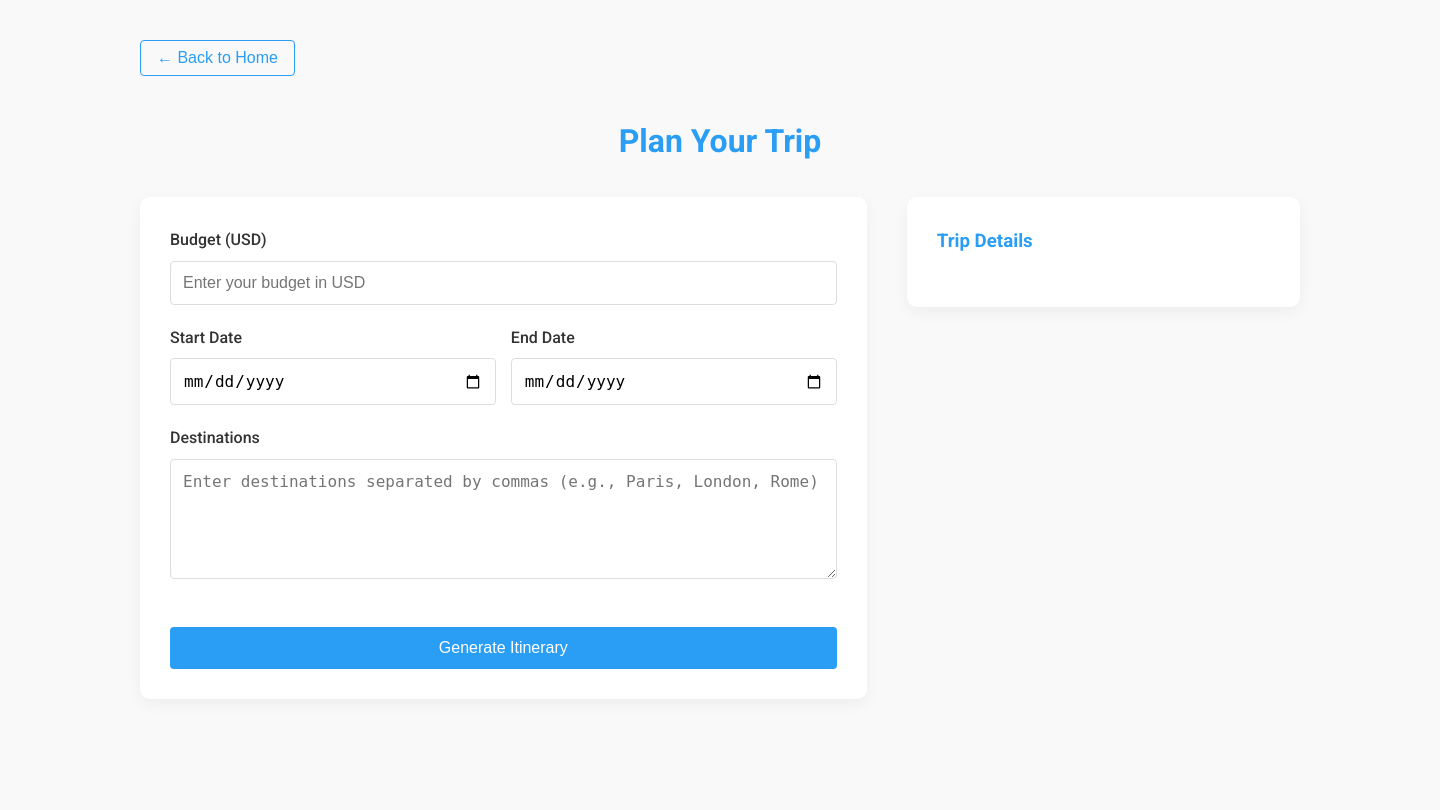
Test: PlannerPage Component › error handling works correctly
The image size is (1440, 810).
Note: Fill in the form
Type "5000" into the number field labelled "Budget (USD)" at [503, 283], box left=170, top=261, right=837, bottom=305
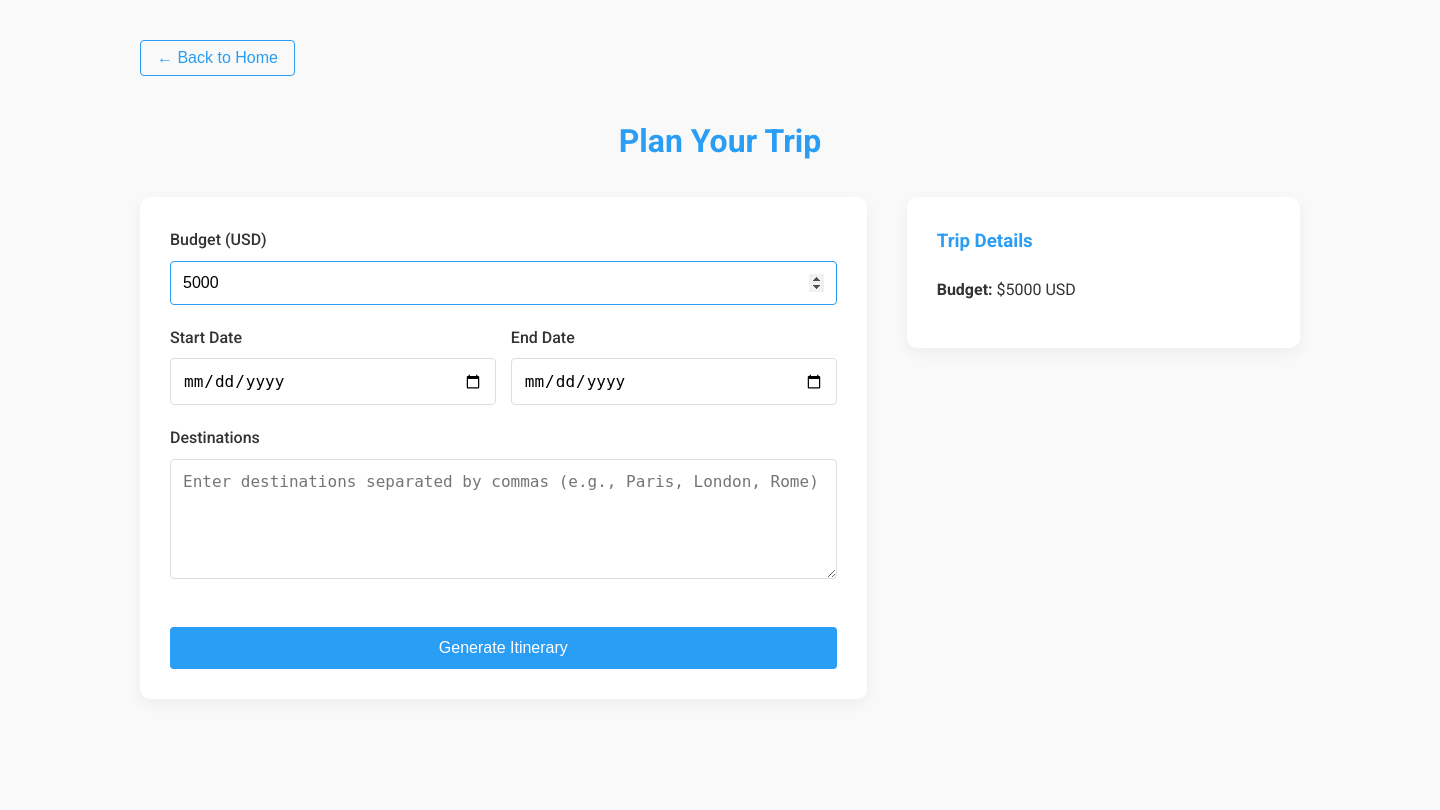
Type "2023-01-01" into the date field labelled "Start Date" at [333, 382], box left=170, top=358, right=496, bottom=405
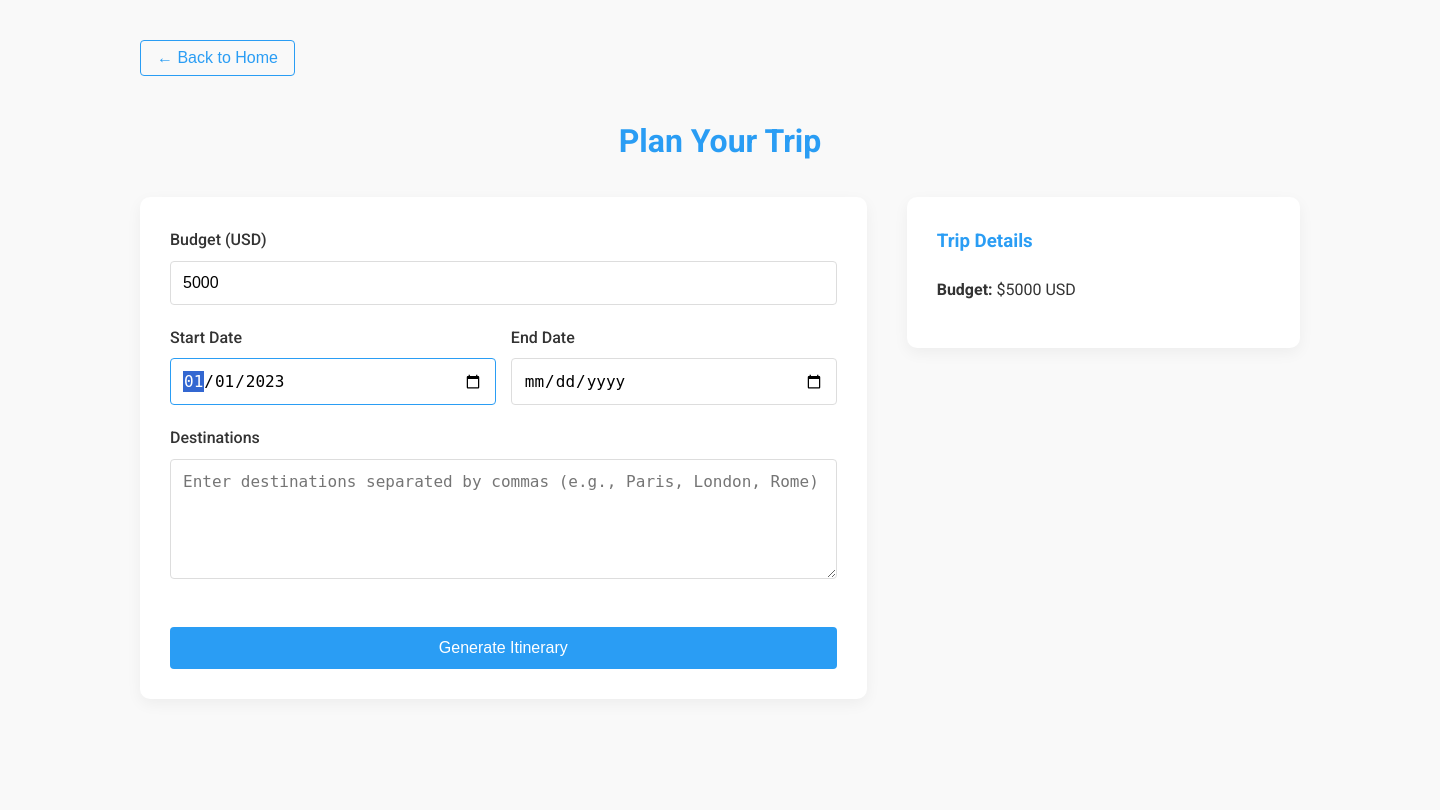
Type "2023-01-05" into the date field labelled "End Date" at [674, 382], box left=511, top=358, right=837, bottom=405
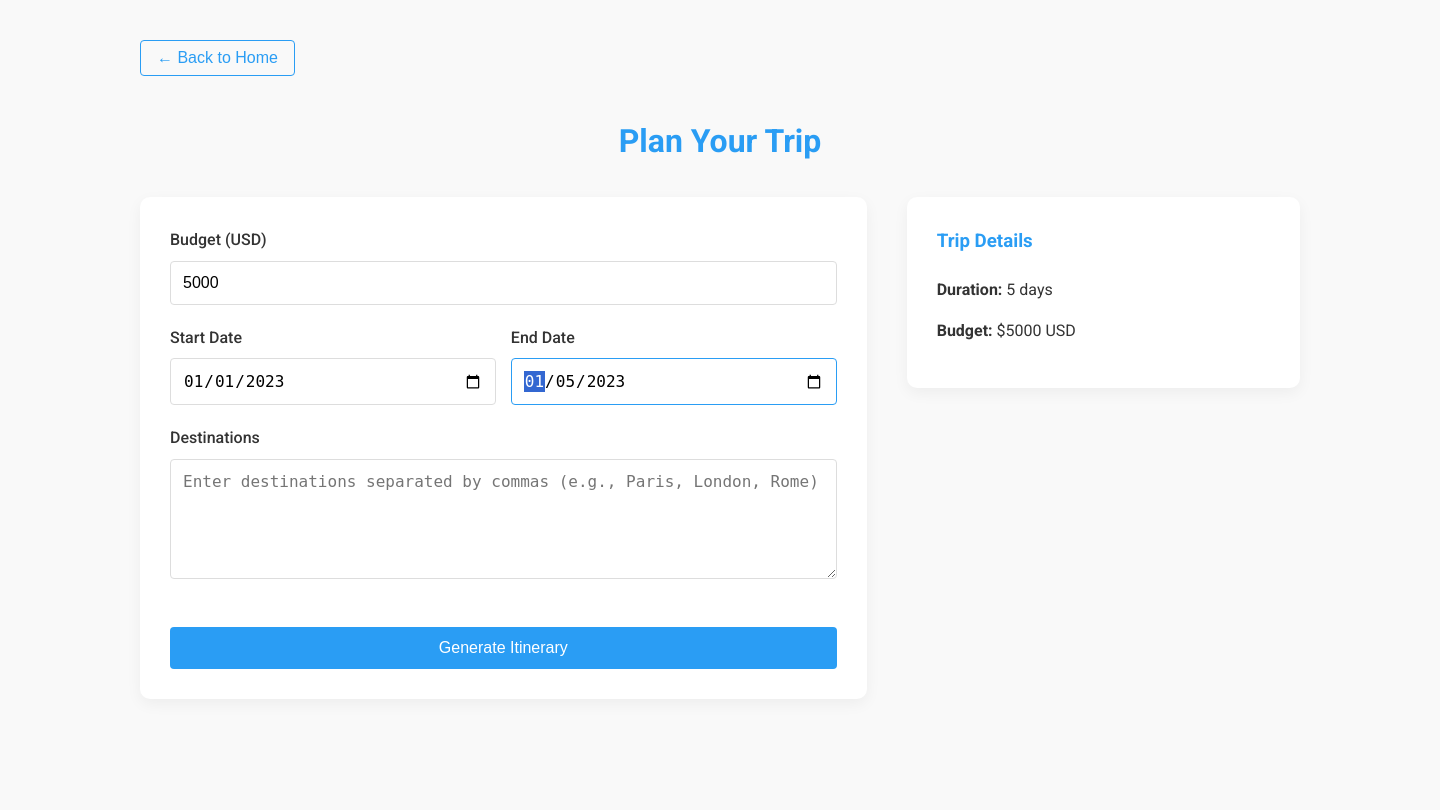
Type "Paris, London" into the text box labelled "Destinations" at [503, 519], box left=170, top=459, right=837, bottom=579
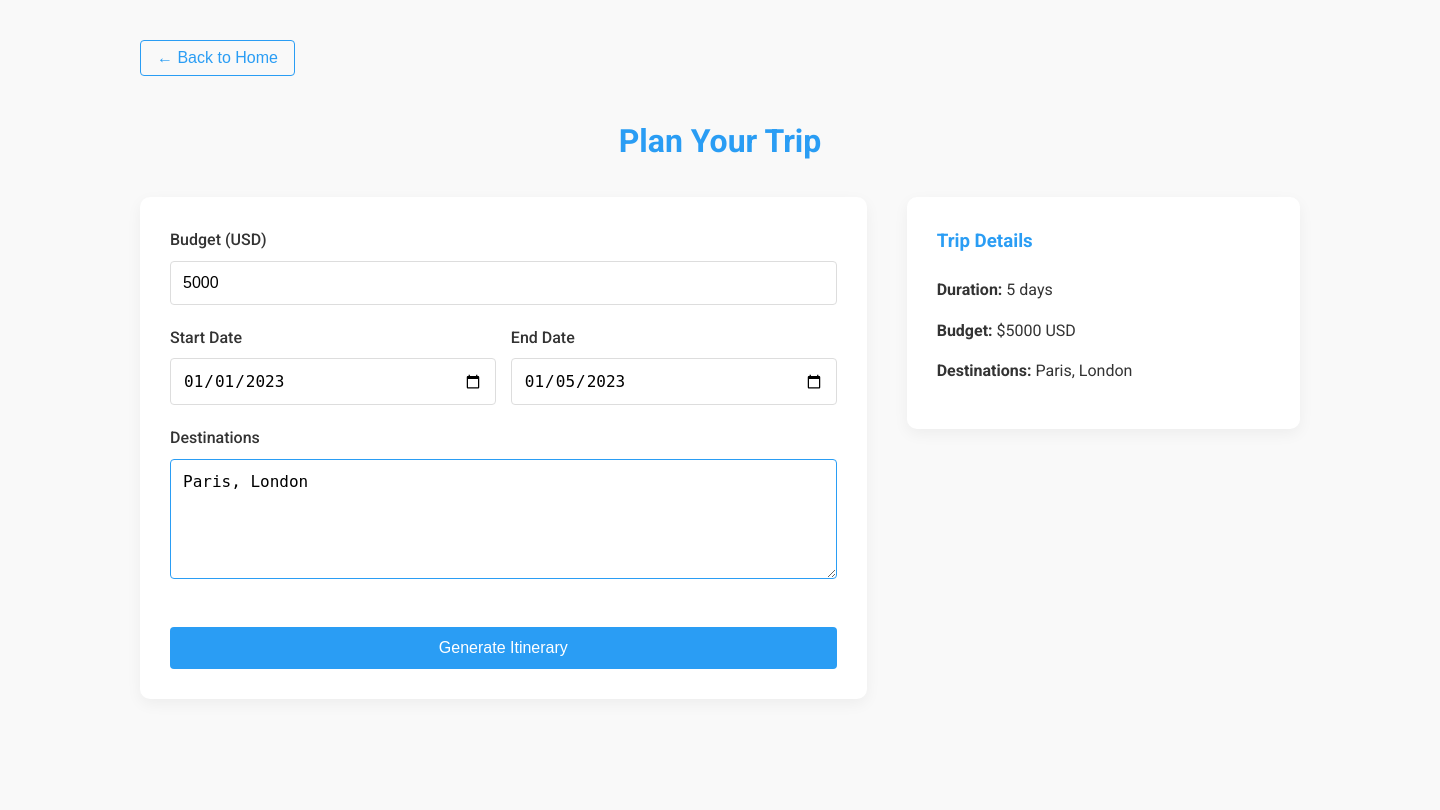
Note: Submit the form
Click the button "Generate Itinerary" at [503, 648], box left=170, top=627, right=837, bottom=669
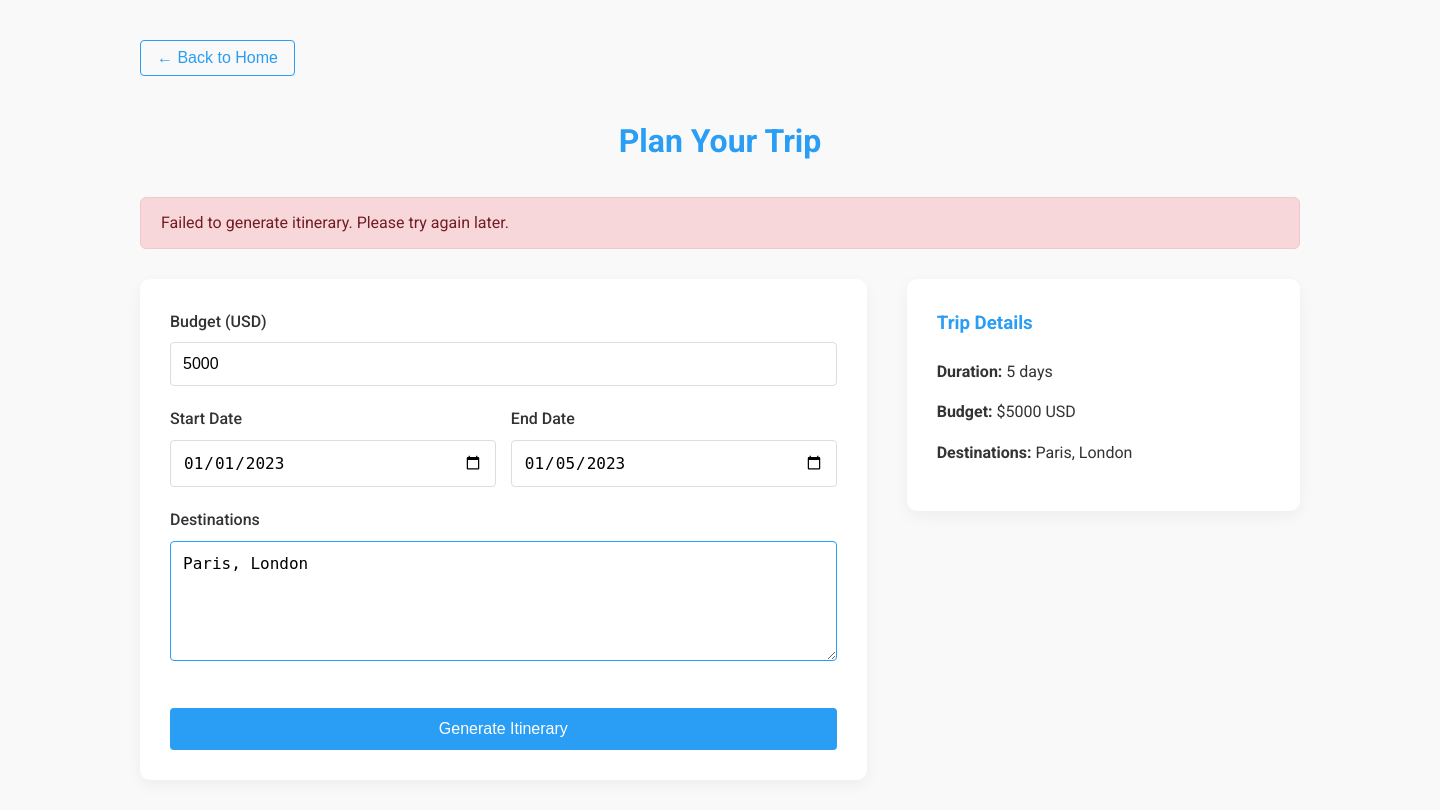
Now the text "Failed to generate itinerary. Please try again later." is shown, box left=140, top=197, right=1300, bottom=249
